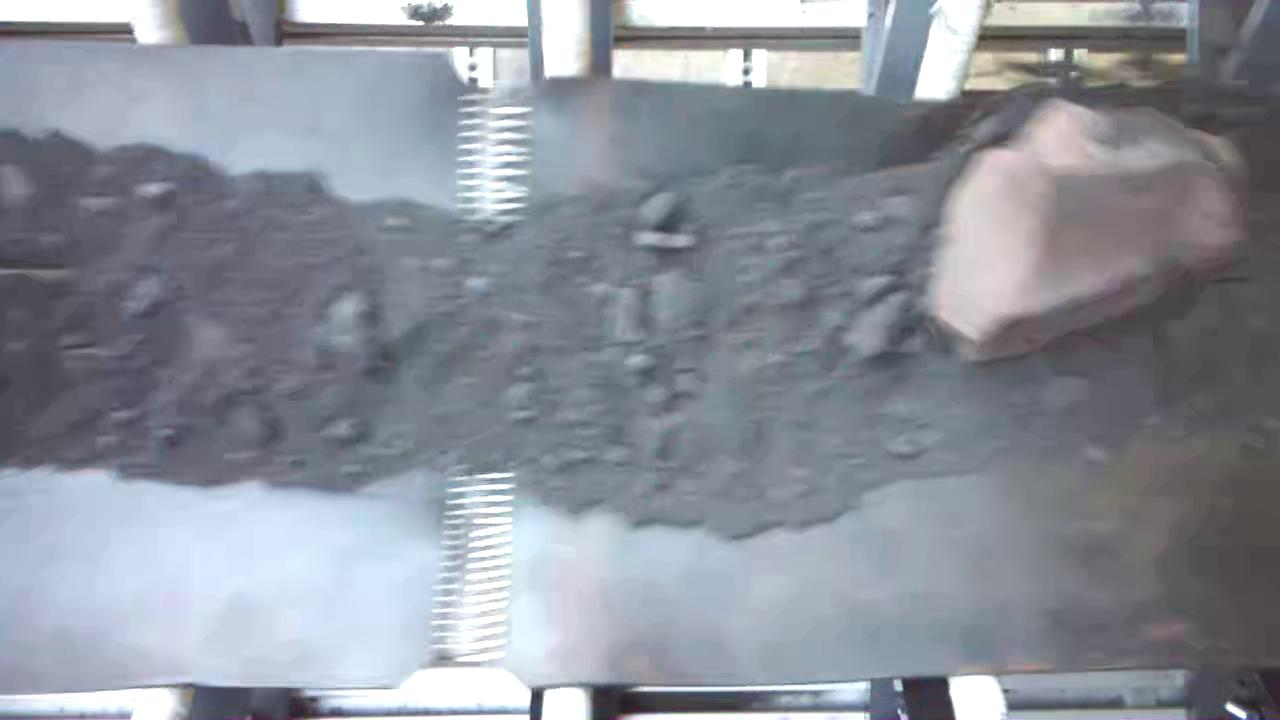conveyor: (3, 92, 1280, 664)
